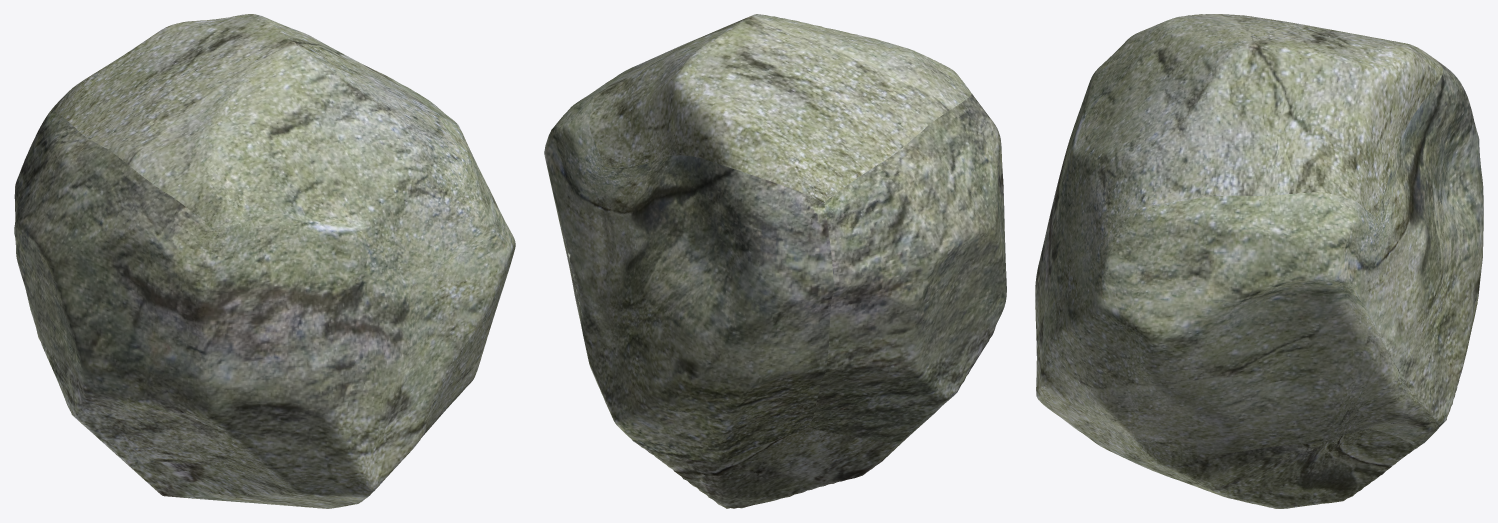
File: rock_1.FBX
3 views of the same model, side by side, from view 1: azimuth 30°, elevation 25°; view 2: azimuth 150°, elevation 25°; view 3: azimuth 270°, elevation 25° (orthographic). The views are drawn at different scales.
Parts seen in each view (by area): view 1: ZBrush_defualt_group; view 2: ZBrush_defualt_group; view 3: ZBrush_defualt_group.
Part boxes in pixels (box(x1,y1,x2,y2)): ZBrush_defualt_group: box(14, 14, 515, 508); ZBrush_defualt_group: box(544, 14, 1006, 508); ZBrush_defualt_group: box(1035, 14, 1483, 508).
Bounding box in the file's own units: 1.1 × 1.17 × 1.01.
